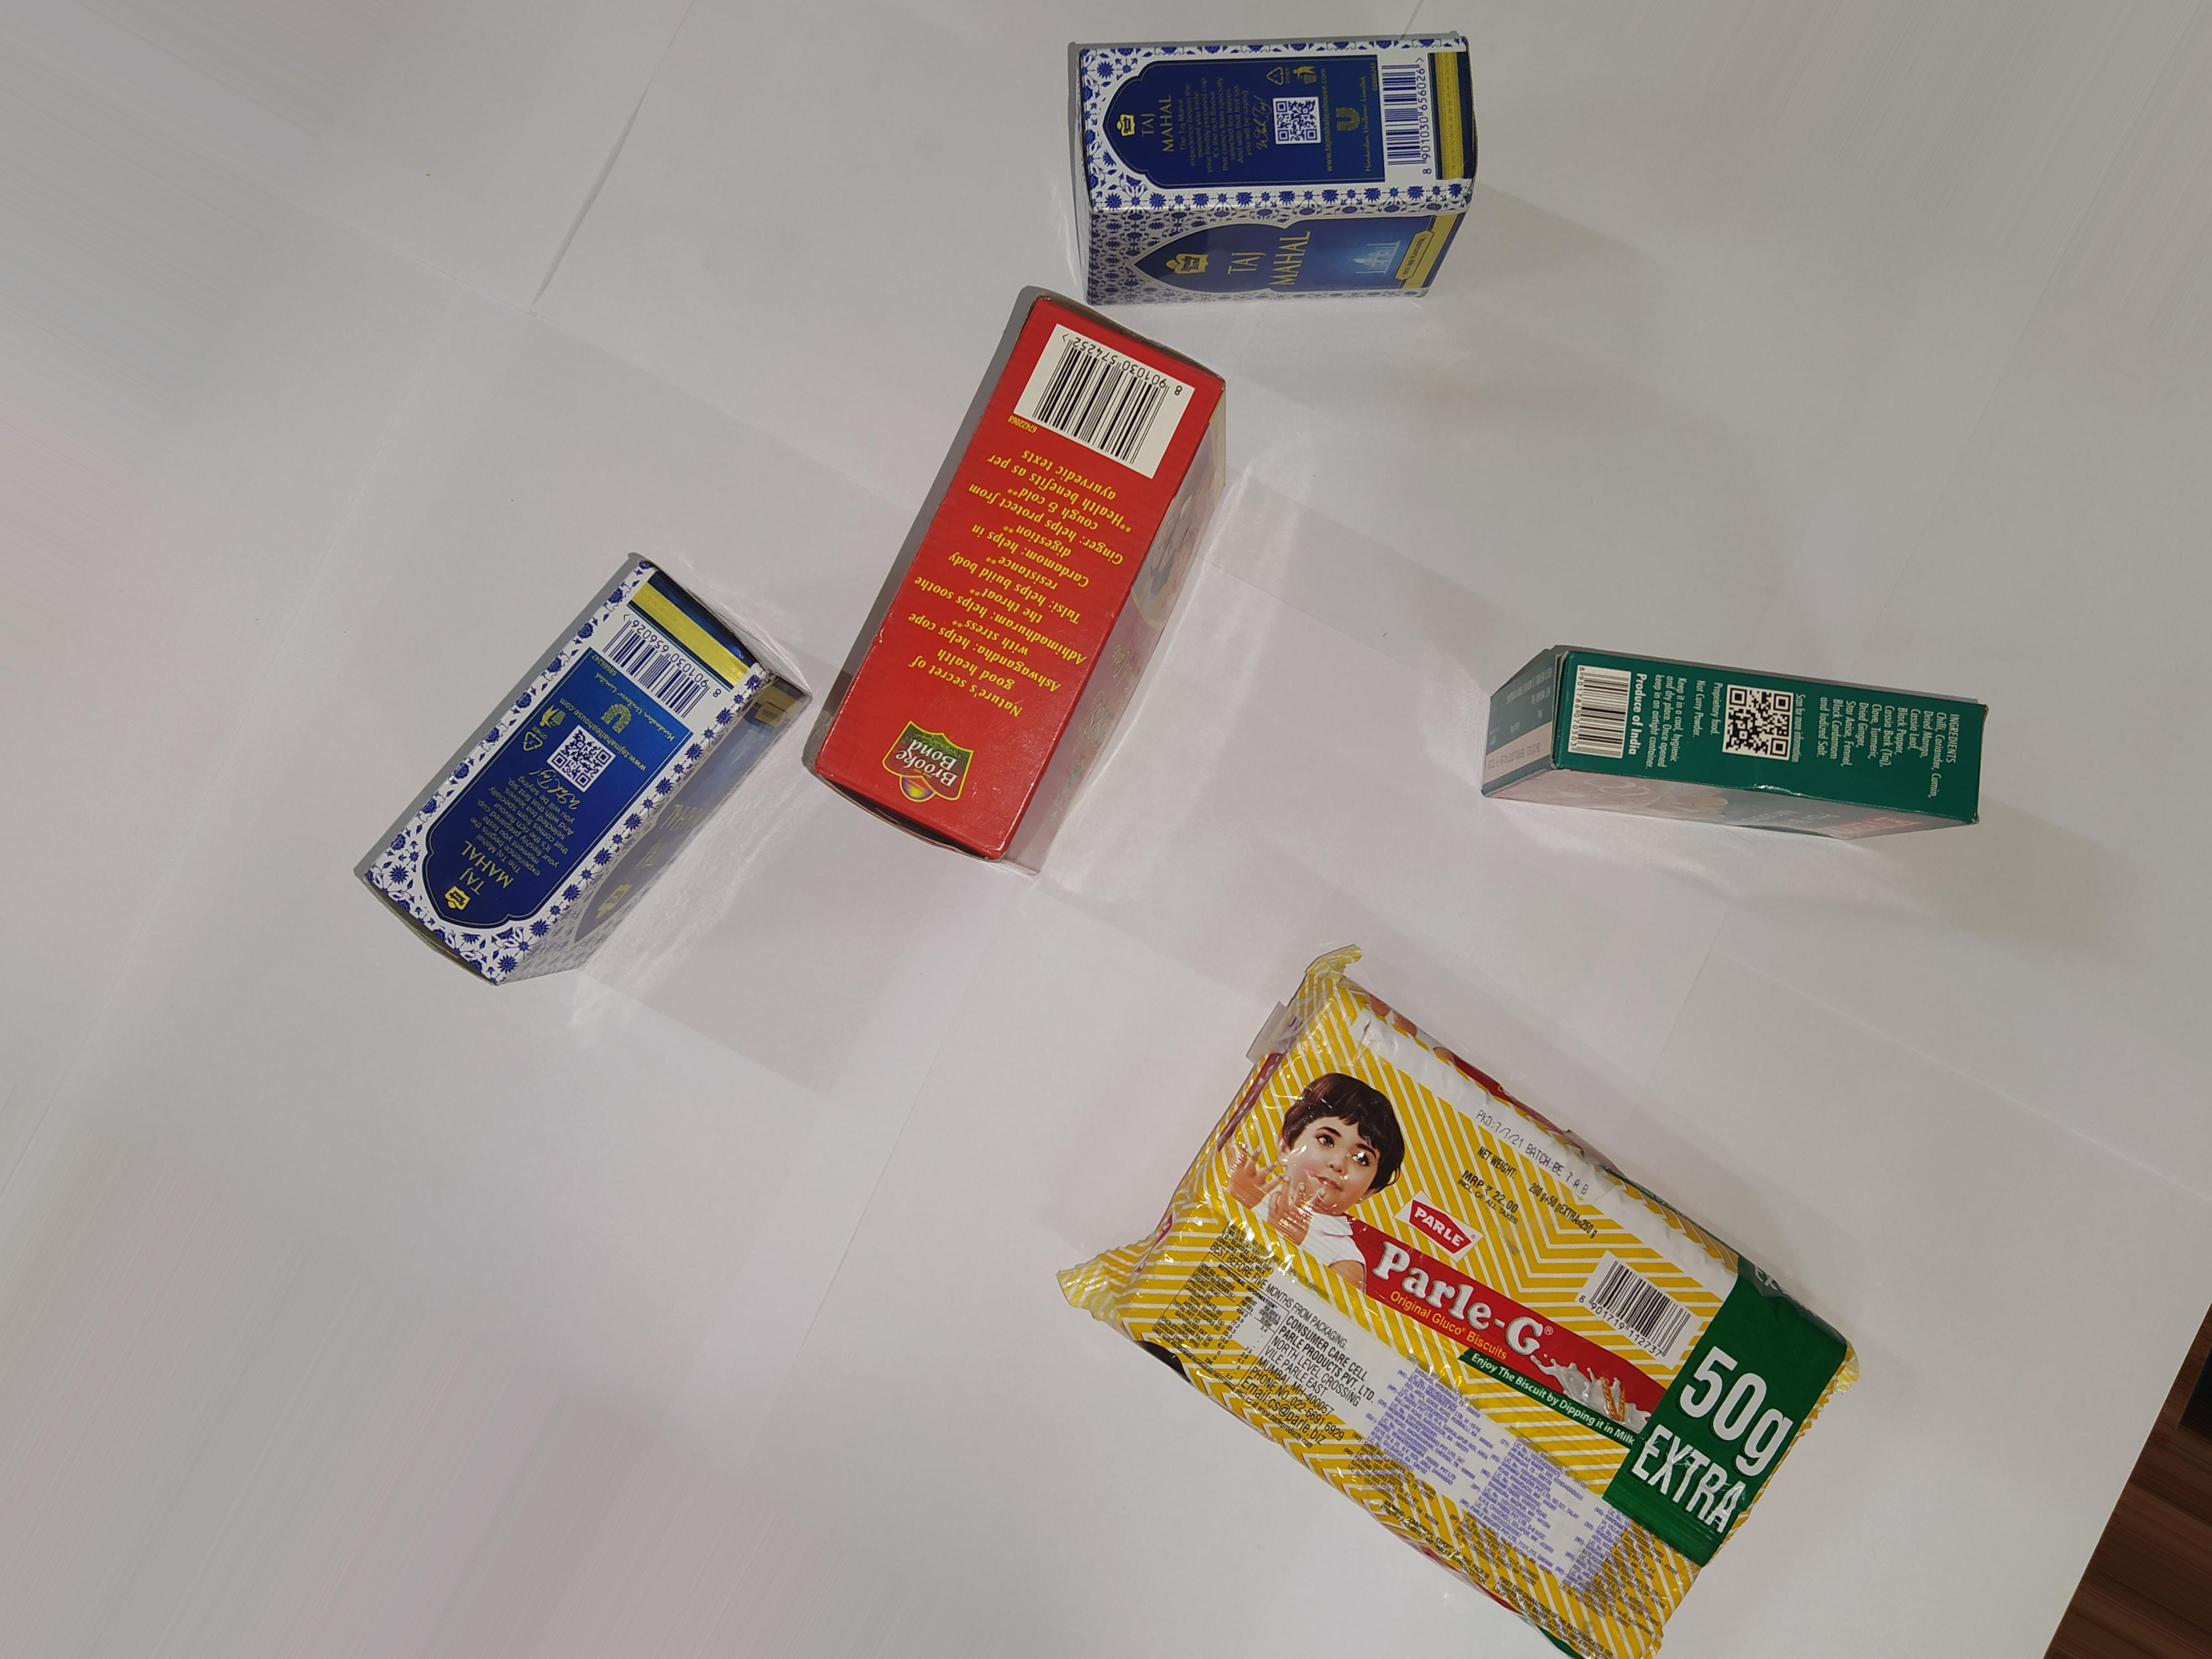Bar_code: (996, 321, 1211, 500), (564, 605, 726, 732), (1576, 1262, 1702, 1389), (1362, 40, 1454, 188), (1559, 655, 1648, 769)
Item: (1054, 939, 1876, 1652), (831, 281, 1280, 901), (368, 549, 810, 1030), (967, 9, 1581, 340), (1456, 619, 2013, 884)
QR_code: (1717, 673, 1810, 779), (1280, 99, 1332, 157)
